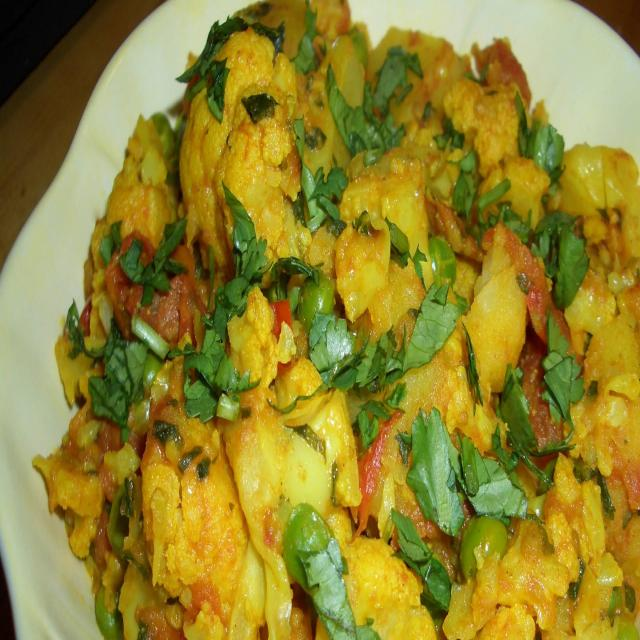Aloo Gobi: (95, 0, 547, 640)
